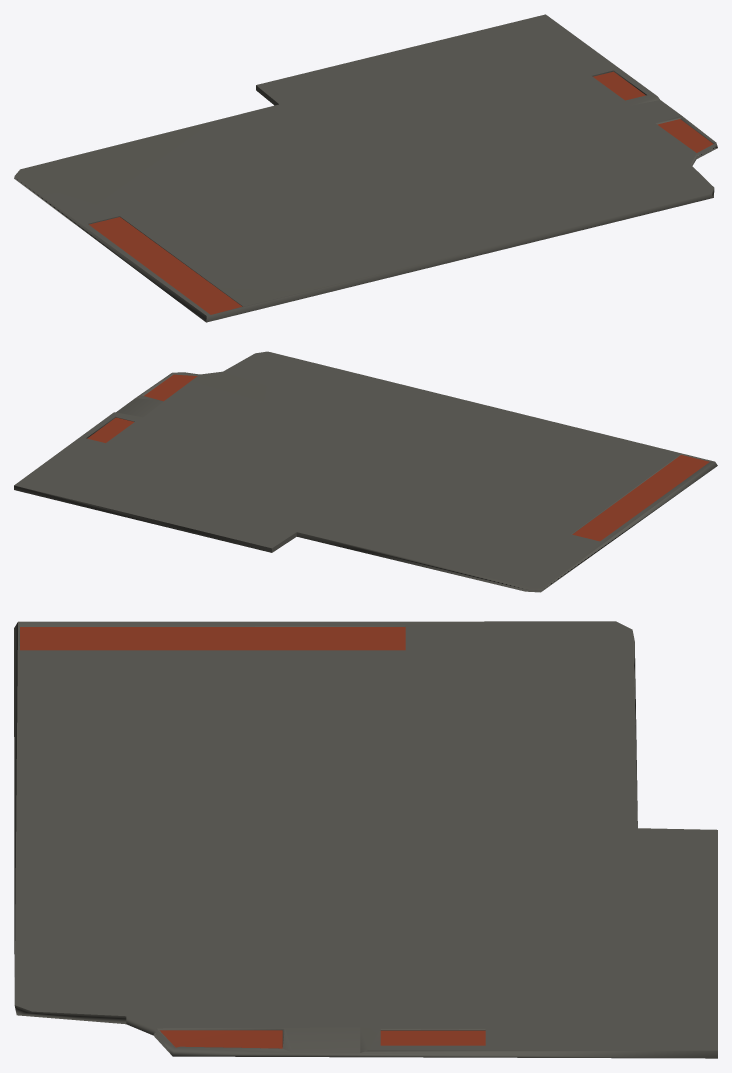
Rendered from podium_2.fbx.
The picture shows the model from 3 angles, top to bottom: view 1: azimuth 30°, elevation 25°; view 2: azimuth 150°, elevation 25°; view 3: azimuth 270°, elevation 25°; orthographic projection. The views are drawn at different scales.
Parts seen in each view (by area): view 1: Cube; view 2: Cube; view 3: Cube.
Boxes of the visible parts, left/top/right/bottom form: Cube: left=14, top=14, right=717, bottom=322; Cube: left=14, top=351, right=717, bottom=592; Cube: left=14, top=621, right=717, bottom=1058.
Bounding box in the file's own units: 6215 × 54.07 × 4298.
